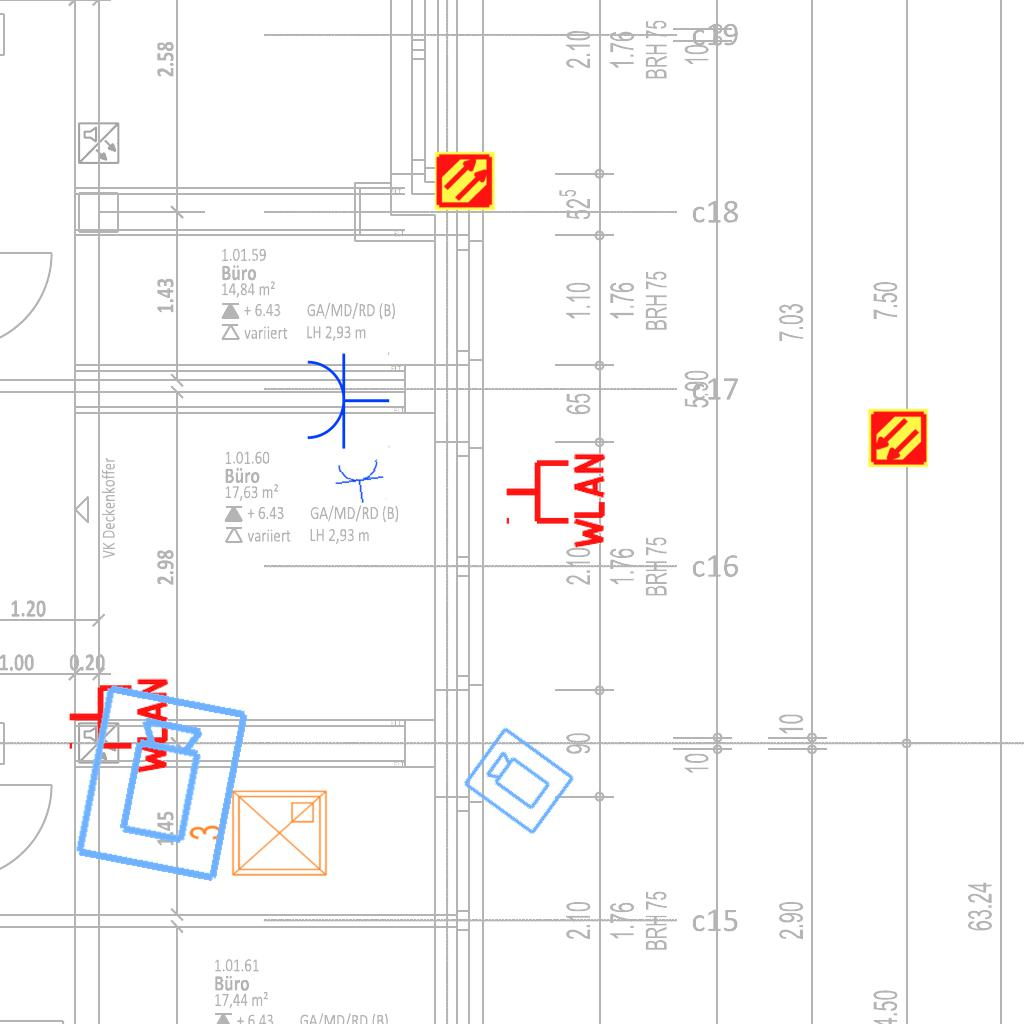ASR_Ansaugrauchmelder: (867, 407, 929, 469), (434, 150, 496, 212)
Einbaudownlights_LED_Konferenzraeume: (184, 783, 334, 887)
KFO_Kamera_mit_Festobjektiv: (70, 679, 256, 889), (460, 722, 579, 839)
Schukosteckdose_einfach: (303, 350, 390, 450), (332, 456, 388, 507)
WLAN: (502, 449, 607, 553), (65, 674, 170, 778)
